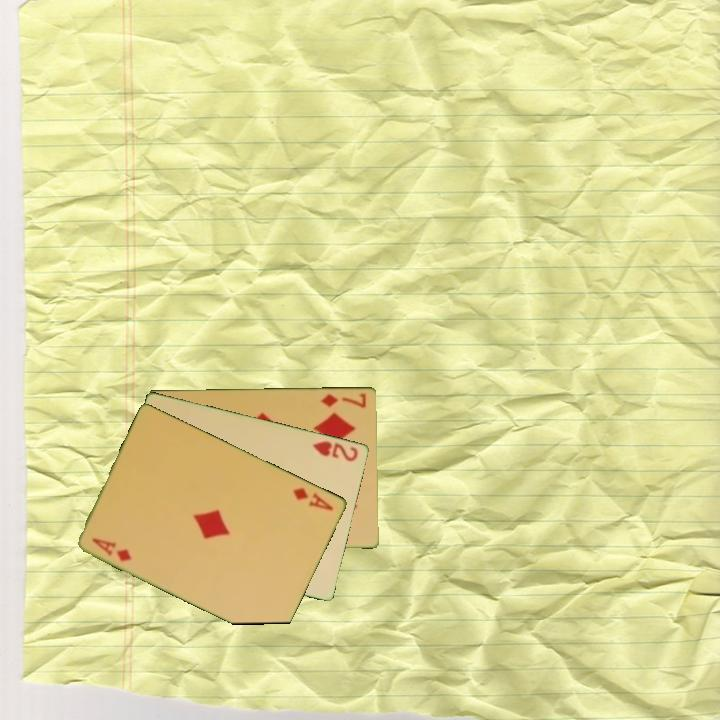2h: (309, 437, 361, 464)
7d: (317, 389, 369, 410)
Ad: (89, 534, 135, 565), (290, 484, 337, 513)
